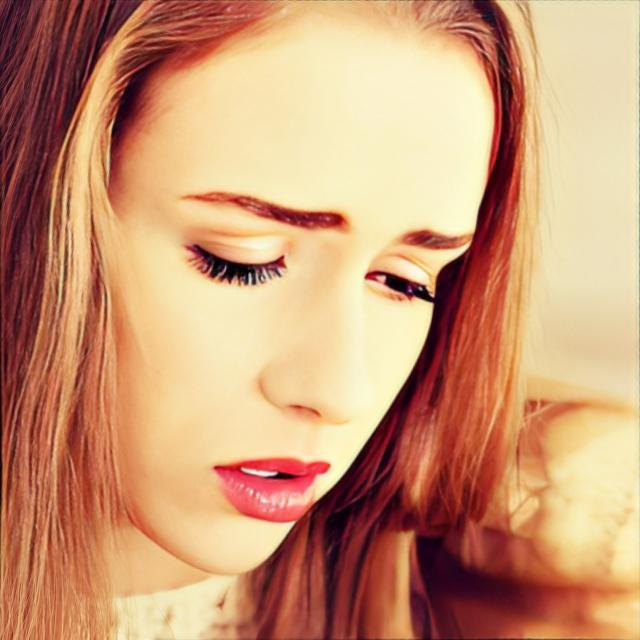sad: (89, 0, 497, 576)
